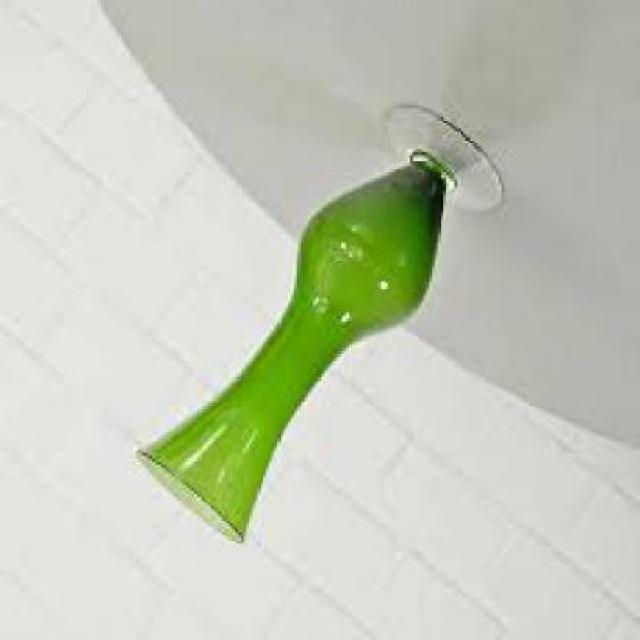GLASS: (141, 108, 507, 549)
